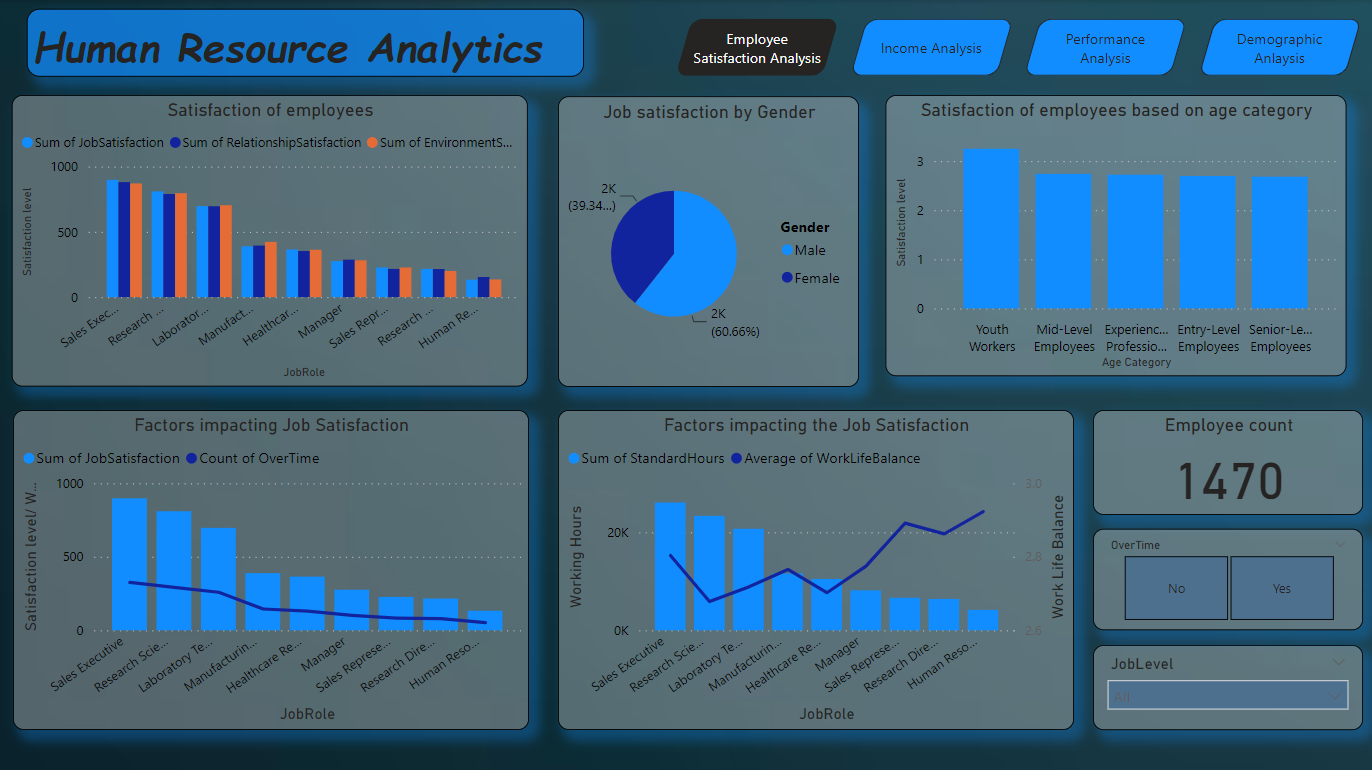

This screenshot's page, from the dashboard's own definition file:
{"tool":"powerbi","page":{"name":"Employee Satisfaction Analysis","canvas":[1280,720],"ordinal":0},"visuals":[{"type":"clusteredColumnChart","title":"Satisfaction of employees","fields":{"Category":["HR Data.JobRole"],"Y":["Sum(HR Data.JobSatisfaction)","Sum(HR Data.RelationshipSatisfaction)","Sum(HR Data.EnvironmentSatisfaction)"]},"box":[12.7,88.8,480,271],"z":0},{"type":"lineStackedColumnComboChart","title":"Factors impacting Job Satisfaction","fields":{"Category":["HR Data.JobRole"],"Y":["Sum(HR Data.JobSatisfaction)"],"Y2":["CountNonNull(HR Data.OverTime)"]},"box":[13.9,381.5,479.7,297.7],"z":1000},{"type":"card","title":"Employee count","fields":{"Values":["_measures.Empolyee Count"]},"box":[1018.6,381.2,251.5,97.4],"z":2000},{"type":"lineStackedColumnComboChart","title":"Factors impacting the Job Satisfaction","fields":{"Category":["HR Data.JobRole"],"Y2":["Avg(HR Data.WorkLifeBalance)"],"Y":["Sum(HR Data.StandardHours)"]},"box":[520.9,381.5,479.7,297.7],"z":3000},{"type":"pieChart","title":"Job satisfaction by Gender","fields":{"Category":["HR Data.Gender"],"Y":["Sum(HR Data.JobSatisfaction)"]},"box":[521,89.2,280.2,270.6],"z":4000},{"type":"slicer","title":"Satisfaction of employees","fields":{"Values":["HR Data.JobLevel"]},"box":[1018.4,600.1,251.4,79.3],"z":5000},{"type":"slicer","title":"Satisfaction of employees","fields":{"Values":["HR Data.OverTime"]},"box":[1018.6,491.5,251.5,94.2],"z":6000},{"type":"clusteredColumnChart","title":"Satisfaction of employees based on age category","fields":{"Category":["HR Data.Age Category"],"Y":["Avg(HR Data.JobSatisfaction)"]},"box":[825.9,88.7,428.5,261.5],"z":7000},{"type":"pageNavigator","box":[630,17.7,638.9,53.2],"z":8002},{"type":"textbox","box":[26.6,7.6,518.4,63.4],"z":8003}]}

Visuals, with their boxes in screenshot pixels (x1, y1, x2, y2), scaled from the page's 1280x720 canvas onto the 1372x770 screenshot:
"Satisfaction of employees" clusteredColumnChart: select_region(14, 95, 528, 385)
"Factors impacting Job Satisfaction" lineStackedColumnComboChart: select_region(15, 408, 529, 726)
"Employee count" card: select_region(1092, 408, 1361, 512)
"Factors impacting the Job Satisfaction" lineStackedColumnComboChart: select_region(558, 408, 1073, 726)
"Job satisfaction by Gender" pieChart: select_region(558, 95, 859, 385)
"Satisfaction of employees" slicer: select_region(1092, 642, 1361, 727)
"Satisfaction of employees" slicer: select_region(1092, 526, 1361, 626)
"Satisfaction of employees based on age category" clusteredColumnChart: select_region(885, 95, 1345, 375)
pageNavigator: select_region(675, 19, 1360, 76)
textbox: select_region(29, 8, 584, 76)
